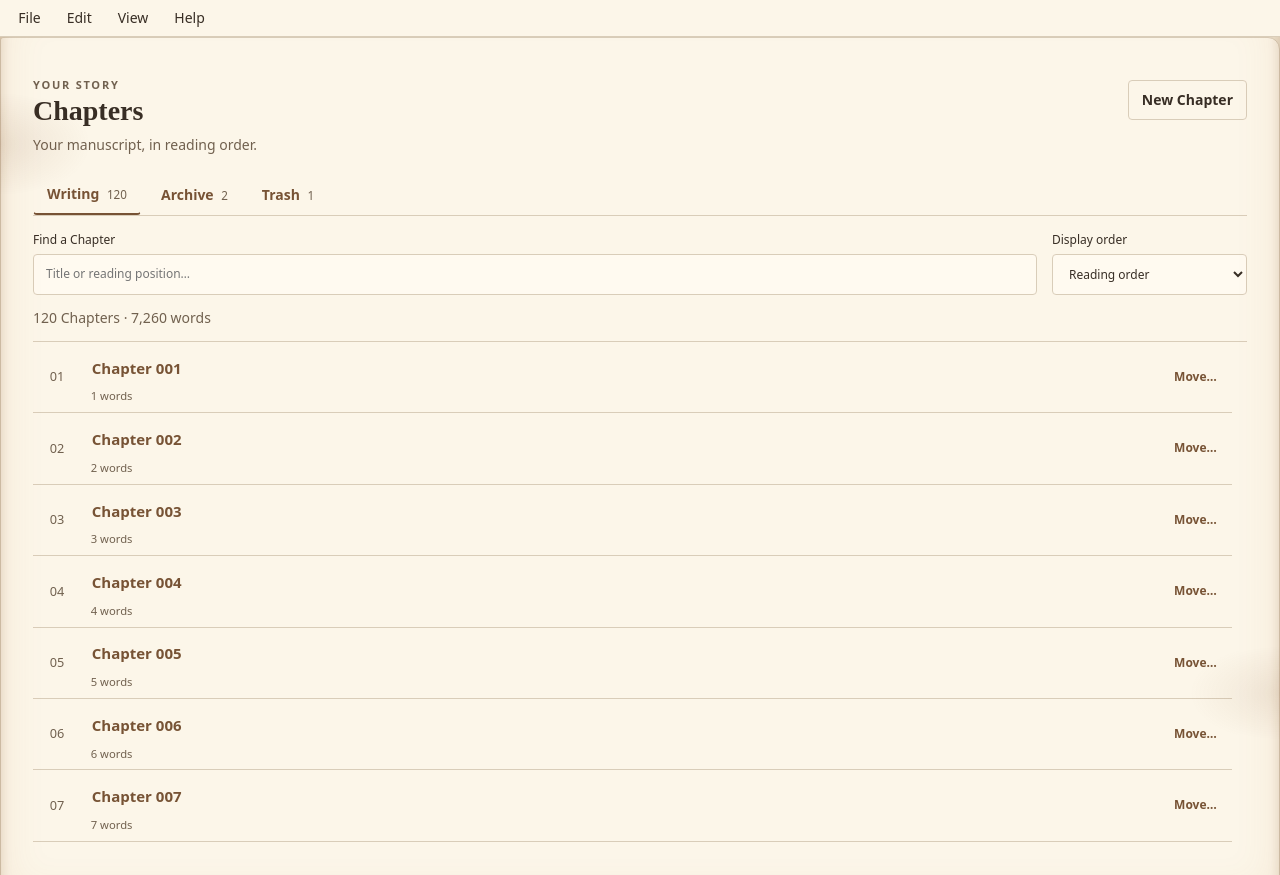
keeps failed moves and the chosen position reviewable
The width and height of the screenshot is (1280, 875).
expect the button "Chapter 001" is shown: met, box [91,349,183,387]
Click the button with aria-label "Move Chapter 001 in reading order" at coordinates (1195, 377), box [1164,358,1227,396]
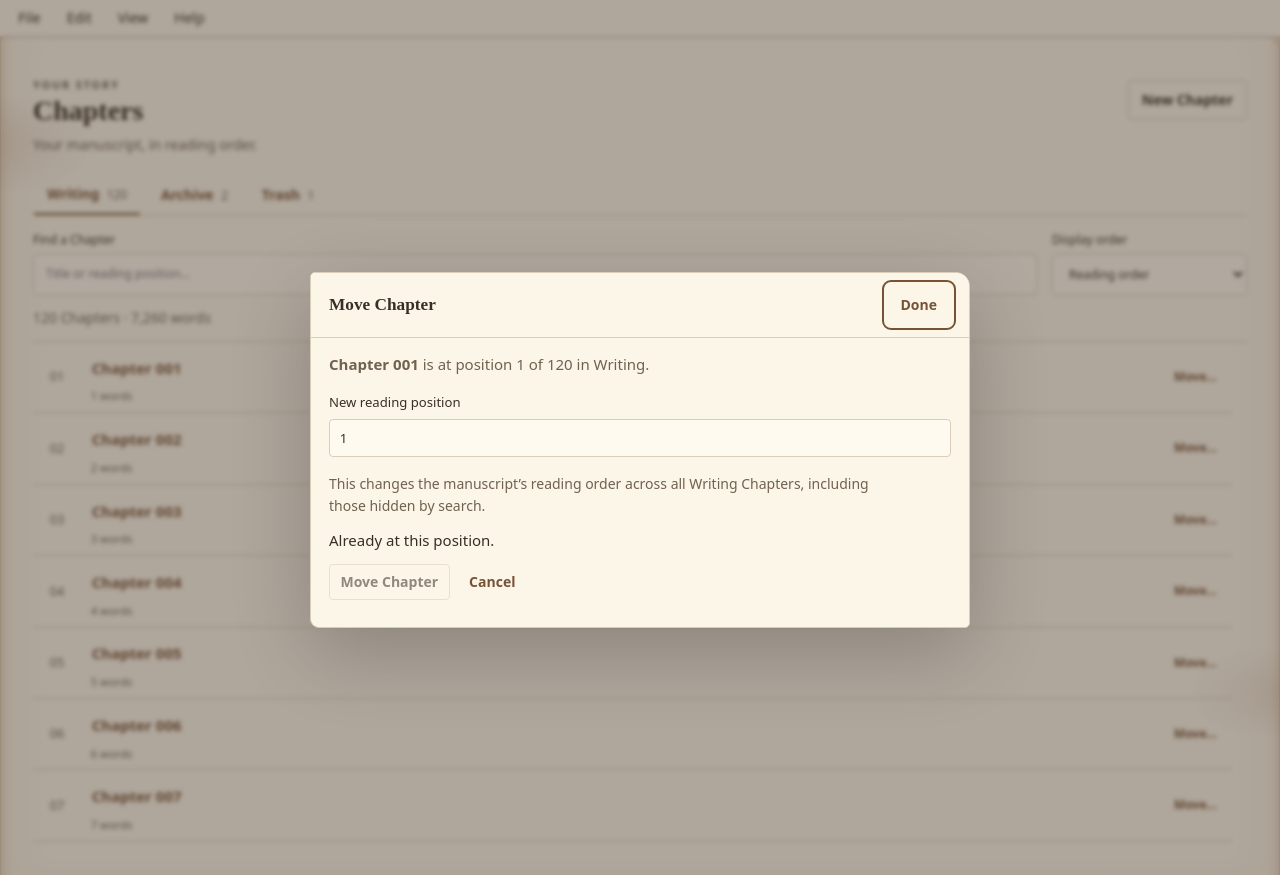
Replace the text in the number field labelled "New reading position" with "2" at coordinates (640, 438), box [329,419,951,457]
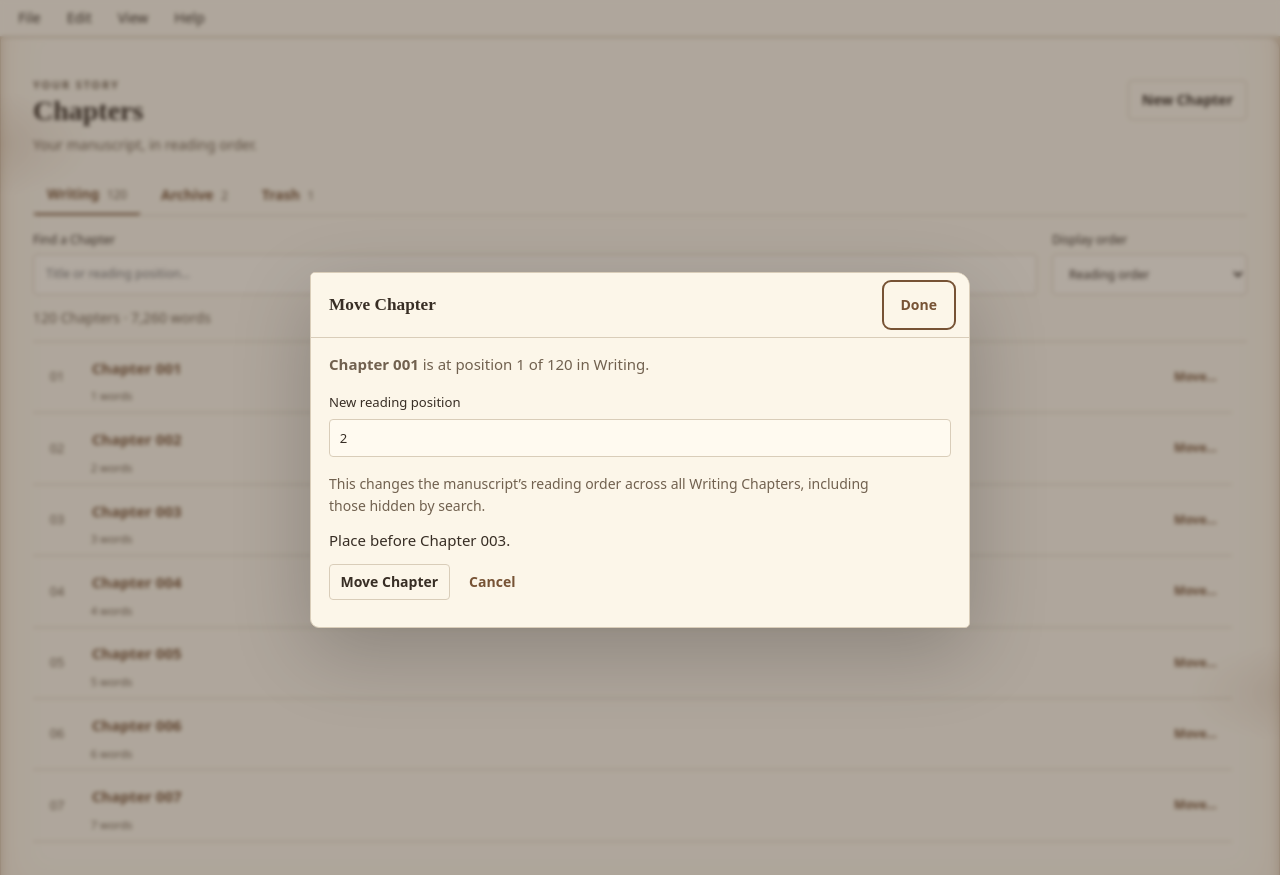
Click the button "Move Chapter" at coordinates (389, 582), box [329,564,450,600]
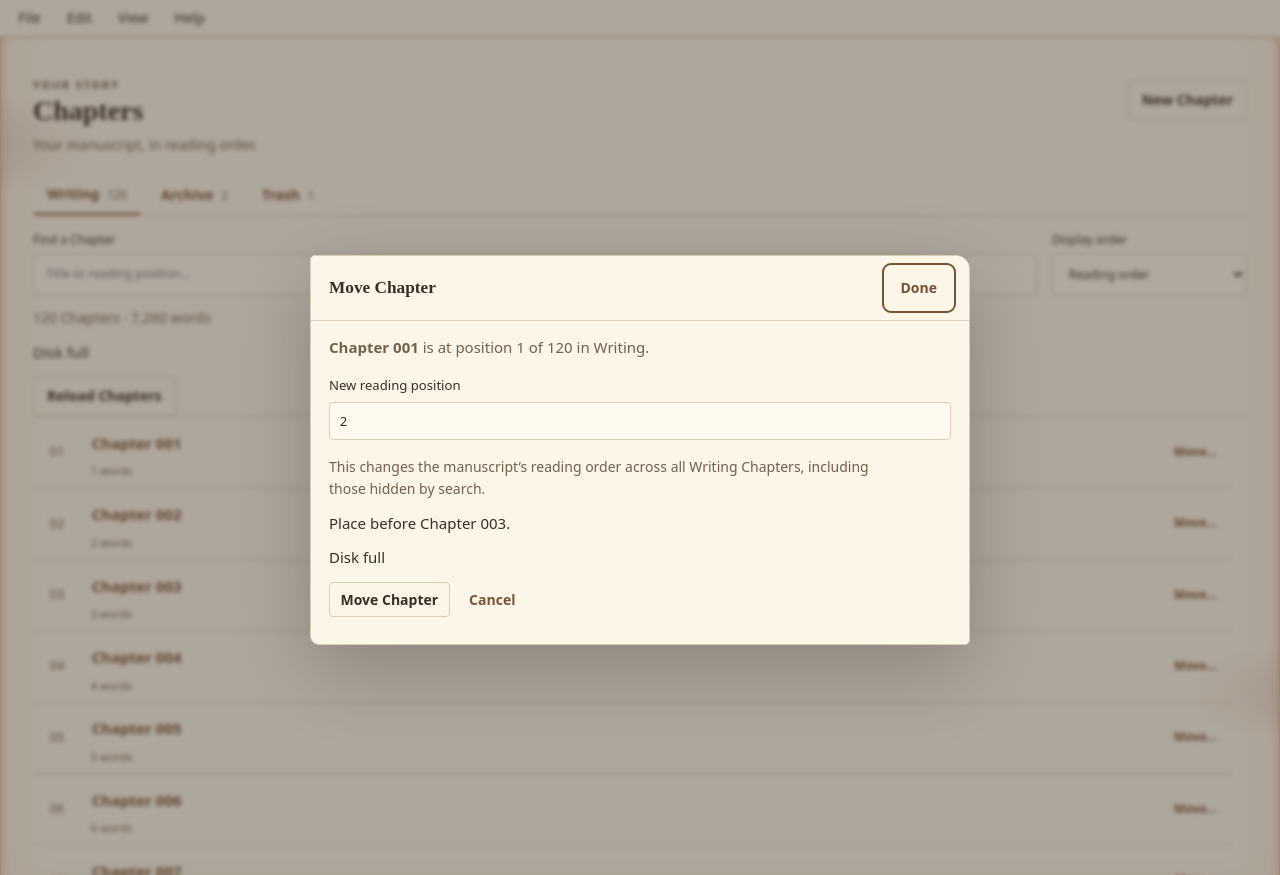
expect the message "Disk full" is shown: met, box [329,547,385,567]
